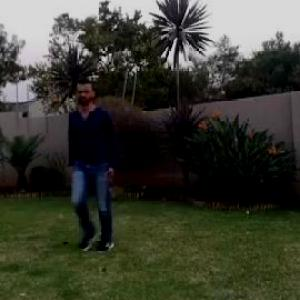follow: (68, 79, 113, 238)
